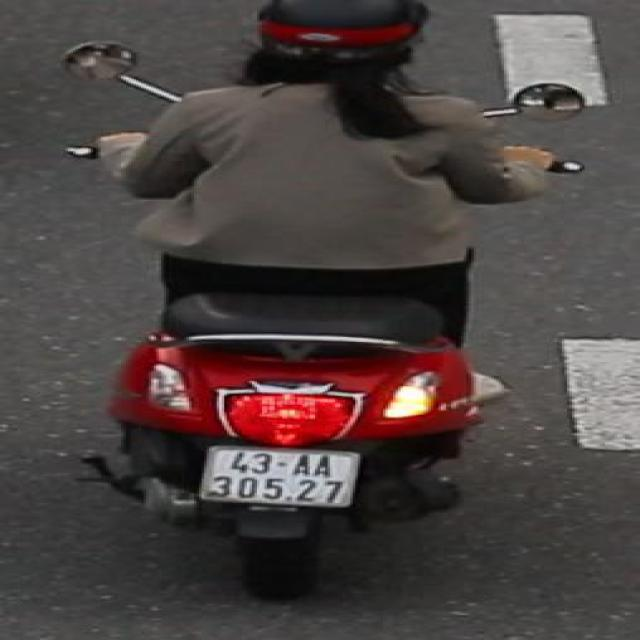LP: (198, 444, 366, 513)
helmet: (238, 0, 445, 97)
